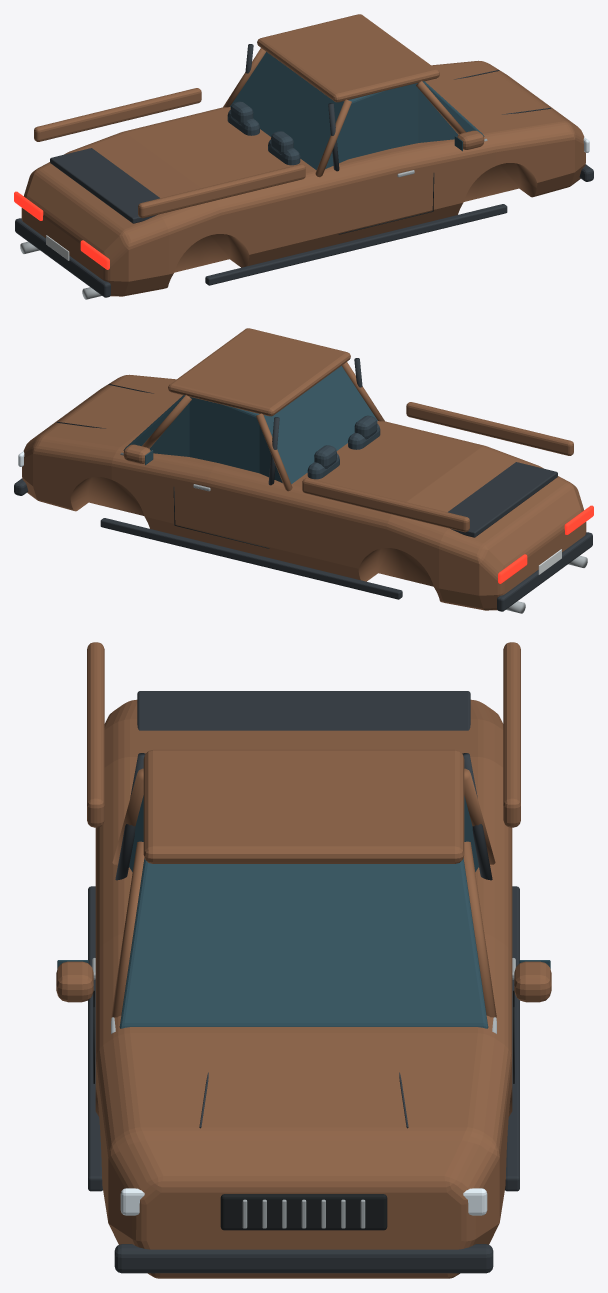
File: SM_Pickup.fbx
The picture shows the model from 3 angles, top to bottom: view 1: azimuth 30°, elevation 25°; view 2: azimuth 150°, elevation 25°; view 3: azimuth 270°, elevation 25°; orthographic projection. The views are drawn at different scales.
Parts seen in each view (by area): view 1: SM_Pickup; view 2: SM_Pickup; view 3: SM_Pickup.
Part boxes in pixels (x1=…): SM_Pickup: x1=14, y1=14, x2=593, y2=299; SM_Pickup: x1=14, y1=328, x2=593, y2=613; SM_Pickup: x1=56, y1=642, x2=551, y2=1278.
Size of the model in its own units: 553 by 239 by 160.
